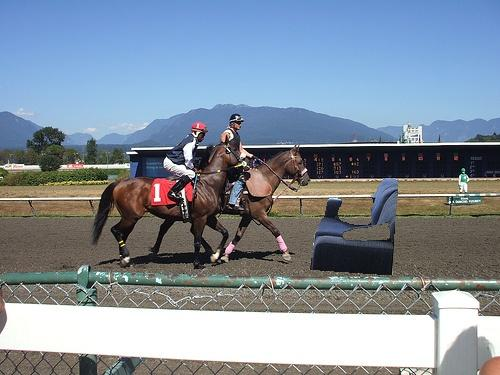tampered: (311, 179, 398, 275)
